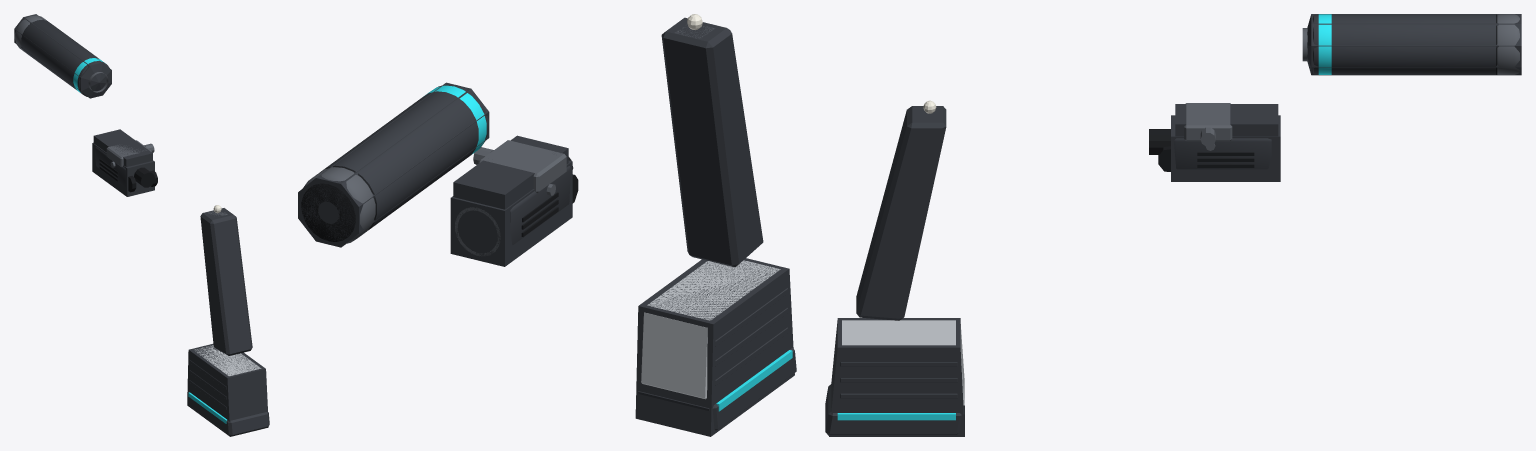
File: pistol.glb
3 views of the same model, side by side, from view 1: azimuth 30°, elevation 25°; view 2: azimuth 150°, elevation 25°; view 3: azimuth 270°, elevation 25° (orthographic). The views are drawn at different scales.
Parts seen in each view (by area): view 1: magazine_extended, magazine_extended_Figure, muzzle_silencer, muzzle_silencer_Figure, laser_redLaser_Figure, light_weaponTorch, laser_redLaser, light_weaponTorch_Figure; view 2: magazine_extended, muzzle_silencer, magazine_extended_Figure, light_weaponTorch_Figure, muzzle_silencer_Figure, laser_redLaser_Figure, light_weaponTorch, laser_redLaser; view 3: magazine_extended, muzzle_silencer, magazine_extended_Figure, light_weaponTorch, laser_redLaser, light_weaponTorch_Figure, muzzle_silencer_Figure, laser_redLaser_Figure.
Part boxes in pixels (x1,y1,x2,y2): magazine_extended: [187, 205, 269, 436]; magazine_extended_Figure: [187, 344, 268, 436]; muzzle_silencer: [14, 15, 109, 96]; muzzle_silencer_Figure: [14, 14, 111, 98]; laser_redLaser_Figure: [93, 129, 152, 166]; light_weaponTorch: [95, 147, 157, 192]; laser_redLaser: [106, 140, 154, 187]; light_weaponTorch_Figure: [92, 142, 154, 196]; magazine_extended: [638, 14, 796, 430]; muzzle_silencer: [301, 84, 488, 243]; magazine_extended_Figure: [635, 258, 794, 436]; light_weaponTorch_Figure: [450, 160, 572, 266]; muzzle_silencer_Figure: [298, 82, 489, 247]; laser_redLaser_Figure: [453, 135, 568, 209]; light_weaponTorch: [455, 166, 578, 256]; laser_redLaser: [473, 140, 573, 192]; magazine_extended: [825, 100, 964, 435]; muzzle_silencer: [1302, 14, 1519, 74]; magazine_extended_Figure: [829, 318, 964, 436]; light_weaponTorch: [1158, 138, 1271, 171]; laser_redLaser: [1149, 103, 1232, 154]; light_weaponTorch_Figure: [1171, 115, 1280, 181]; muzzle_silencer_Figure: [1307, 14, 1521, 75]; laser_redLaser_Figure: [1175, 104, 1278, 136].
Bounding box in the file's own units: 0.0363 × 0.204 × 0.3177.
